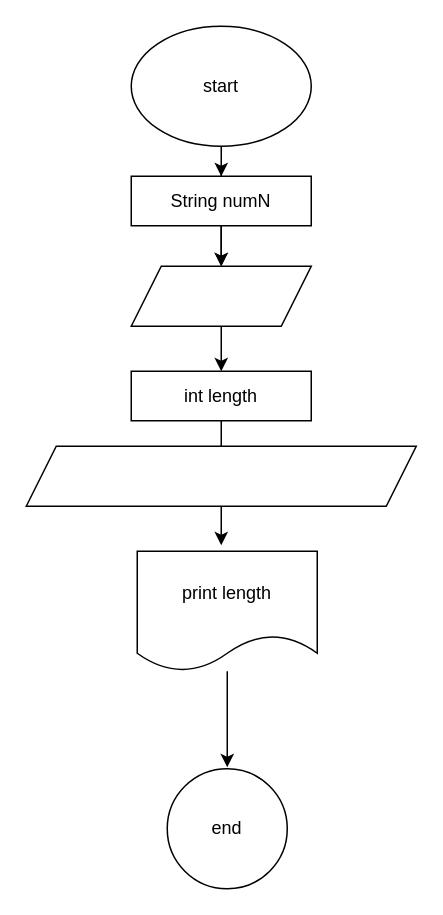
Some shapes in this 443 by 915 pixel diagram are drawn without their labels. Each missing label, with the box of its shape:
int ltngrh = numN.length: (25, 445, 416, 506)
numN = string: (130, 265, 311, 326)
